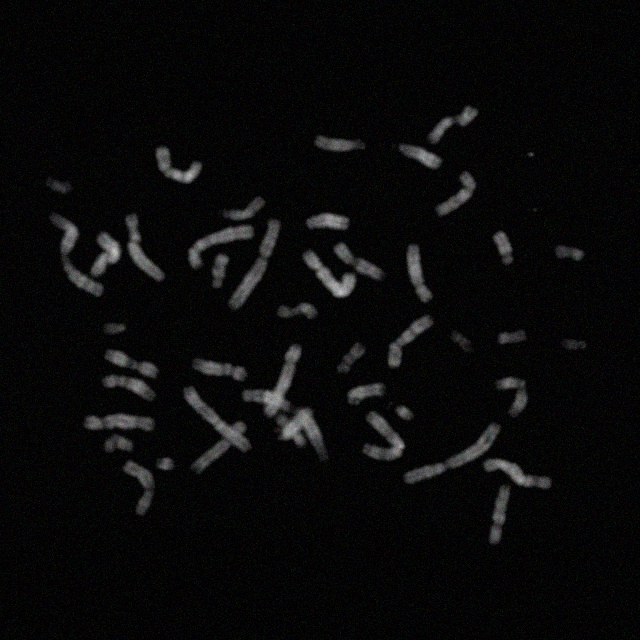chromosome: (403, 424, 503, 486), (48, 215, 104, 298), (230, 218, 280, 310), (185, 386, 251, 452), (186, 224, 254, 268), (192, 421, 248, 473), (126, 214, 166, 282), (264, 345, 300, 417), (482, 456, 552, 492), (304, 250, 356, 298), (388, 316, 432, 368), (362, 412, 404, 460), (334, 240, 384, 280), (428, 105, 478, 144), (436, 170, 476, 217), (123, 459, 155, 515), (103, 348, 157, 378), (157, 146, 201, 182), (102, 374, 156, 402), (406, 244, 432, 302), (298, 410, 328, 460), (85, 412, 157, 432), (488, 486, 512, 546), (496, 376, 528, 419), (92, 234, 122, 278), (194, 356, 244, 382), (398, 143, 442, 171), (242, 387, 290, 411), (280, 408, 312, 442), (222, 197, 266, 220), (314, 134, 368, 152), (274, 416, 304, 446), (338, 343, 366, 375), (349, 382, 385, 406), (306, 213, 349, 233), (279, 301, 317, 321), (494, 231, 514, 267), (210, 252, 228, 290), (498, 328, 528, 346), (557, 242, 583, 262), (104, 436, 132, 454), (452, 331, 473, 354), (397, 402, 418, 424), (559, 337, 587, 351), (154, 456, 176, 472)
